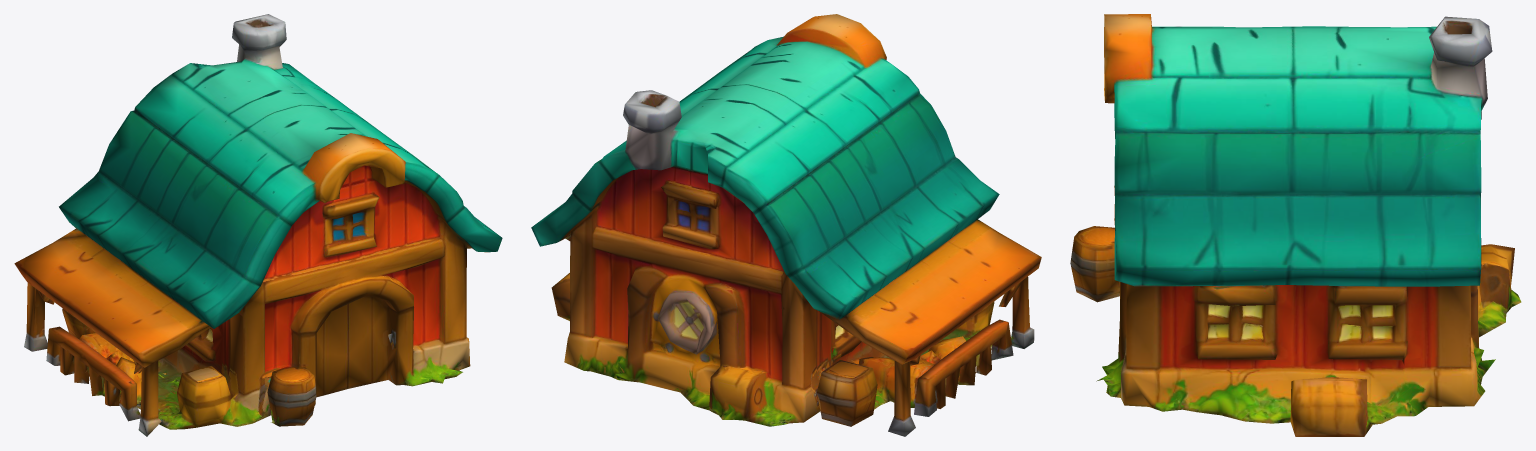
Rendered from House2.glb.
3 renders of one model, left to right at view 1: azimuth 30°, elevation 25°; view 2: azimuth 150°, elevation 25°; view 3: azimuth 270°, elevation 25°, orthographic. The views are drawn at different scales.
Visible parts, largest first — view 1: Mesh1.0; view 2: Mesh1.0; view 3: Mesh1.0.
Part boxes in pixels (left/top/right/bottom): Mesh1.0: left=14, top=14, right=502, bottom=436; Mesh1.0: left=531, top=14, right=1041, bottom=436; Mesh1.0: left=1070, top=14, right=1521, bottom=436.
Bounding box in the file's own units: 1.91 × 1.28 × 1.57.
1 material, 1 textured.
